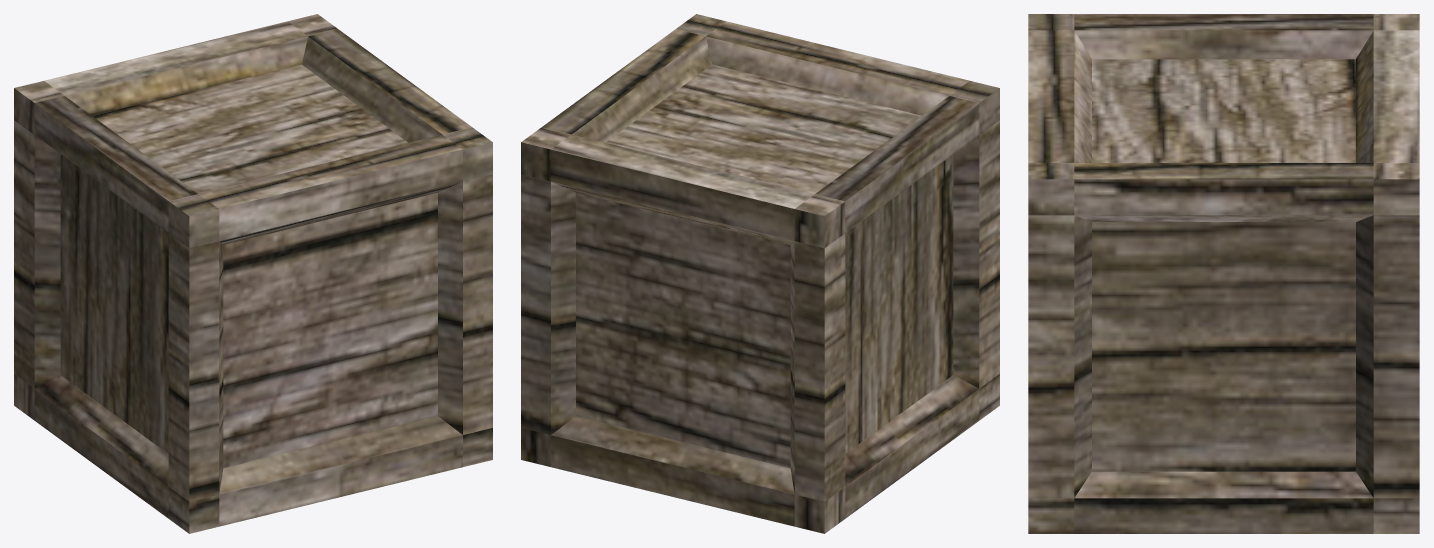
Rendered from crate.fbx.
The picture shows the model from 3 angles, left to right: view 1: azimuth 30°, elevation 25°; view 2: azimuth 150°, elevation 25°; view 3: azimuth 270°, elevation 25°; orthographic projection. The views are drawn at different scales.
Parts seen in each view (by area): view 1: Cube; view 2: Cube; view 3: Cube.
Part boxes in pixels (<box>): Cube: <box>14,14,492,533</box>; Cube: <box>521,14,999,533</box>; Cube: <box>1028,14,1419,533</box>.
Bounding box in the file's own units: 86.12 × 86.12 × 86.12.
Materials: 1 (1 with a texture image).
